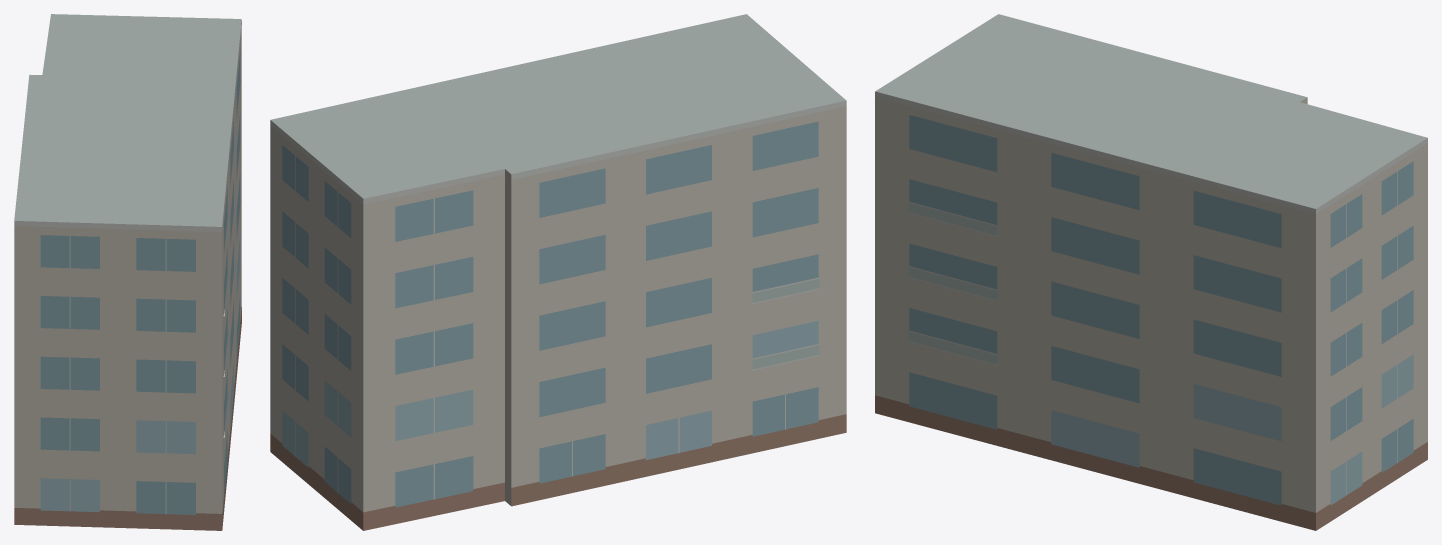
Rendered from survey-upis-32527654.glb.
3 renders of one model, left to right at view 1: azimuth 30°, elevation 25°; view 2: azimuth 150°, elevation 25°; view 3: azimuth 270°, elevation 25°, orthographic. The views are drawn at different scales.
Visible parts, largest first — view 1: survey-upis-32527654.tmp; view 2: survey-upis-32527654.tmp; view 3: survey-upis-32527654.tmp.
Part boxes in pixels (<box>): survey-upis-32527654.tmp: <box>14,14,241,530</box>; survey-upis-32527654.tmp: <box>270,14,846,530</box>; survey-upis-32527654.tmp: <box>875,14,1427,530</box>.
Bounding box in the file's own units: 18.79 × 14.45 × 22.5.
